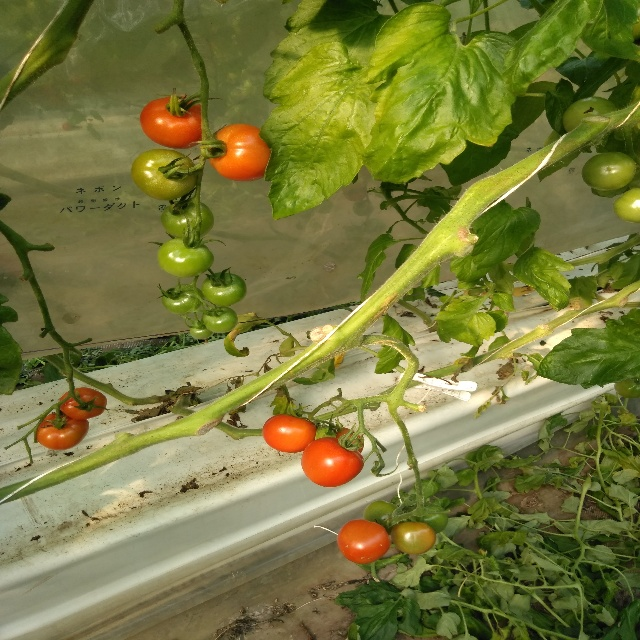l_fully_ripened: (141, 95, 202, 150), (301, 436, 365, 488), (337, 518, 391, 565), (262, 414, 316, 453), (59, 387, 107, 421)
l_green: (131, 149, 198, 202), (160, 198, 214, 240), (581, 151, 637, 191), (157, 238, 213, 278), (563, 96, 618, 133), (201, 272, 246, 307), (403, 501, 448, 534), (362, 500, 404, 535), (159, 284, 205, 315), (200, 306, 239, 334), (614, 189, 639, 224), (190, 320, 216, 339), (615, 378, 639, 398)
l_half_ripened: (205, 123, 276, 181), (36, 411, 89, 451), (391, 521, 436, 555)
